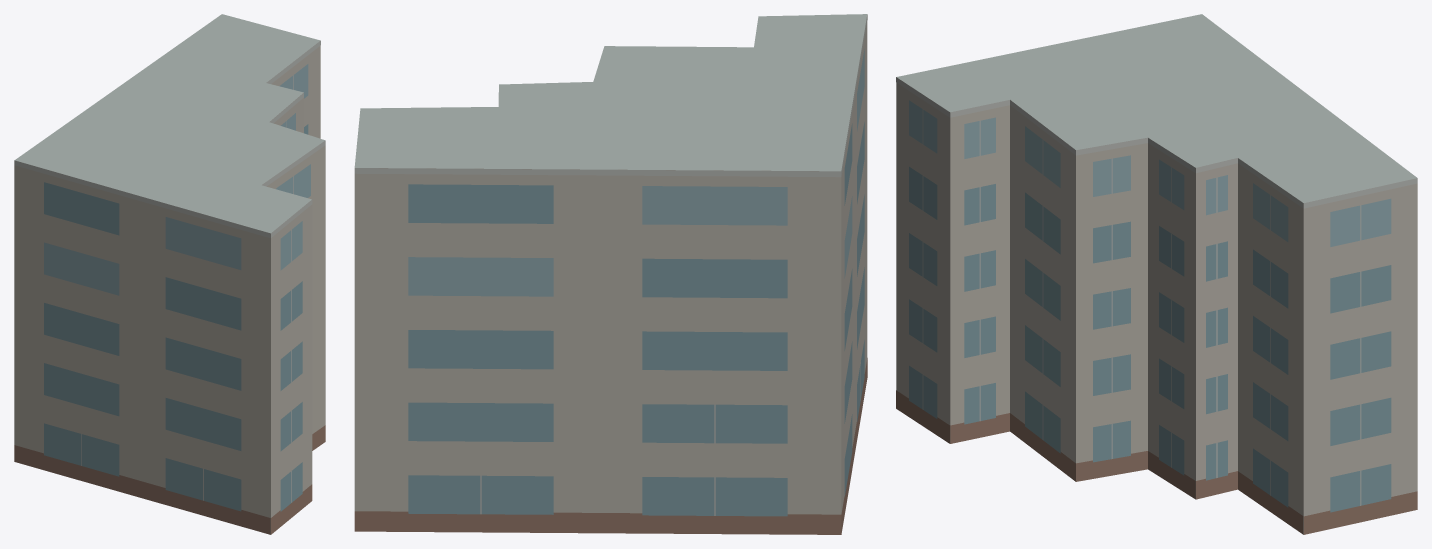
File: survey-upis-32837970.glb
3 renders of one model, left to right at view 1: azimuth 30°, elevation 25°; view 2: azimuth 150°, elevation 25°; view 3: azimuth 270°, elevation 25°, orthographic. The views are drawn at different scales.
Parts seen in each view (by area): view 1: survey-upis-32837970.tmp; view 2: survey-upis-32837970.tmp; view 3: survey-upis-32837970.tmp.
Part boxes in pixels (bbox=[...]): survey-upis-32837970.tmp: bbox=[14, 14, 325, 534]; survey-upis-32837970.tmp: bbox=[354, 14, 867, 534]; survey-upis-32837970.tmp: bbox=[896, 14, 1417, 534].
Bounding box in the file's own units: 18.36 × 15 × 21.38.
